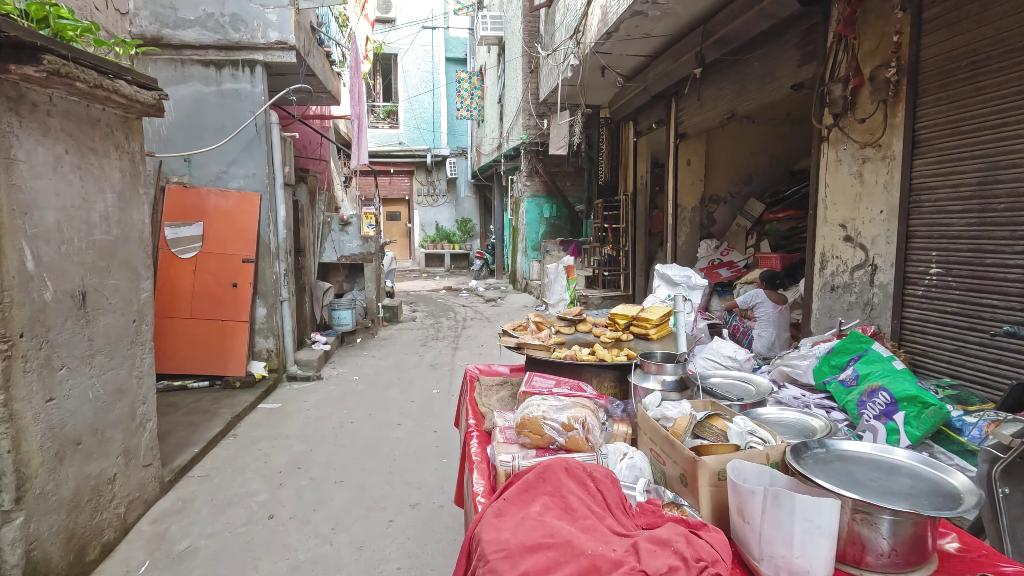garbage: (246, 359, 275, 384), (309, 332, 331, 356), (463, 276, 485, 295)
